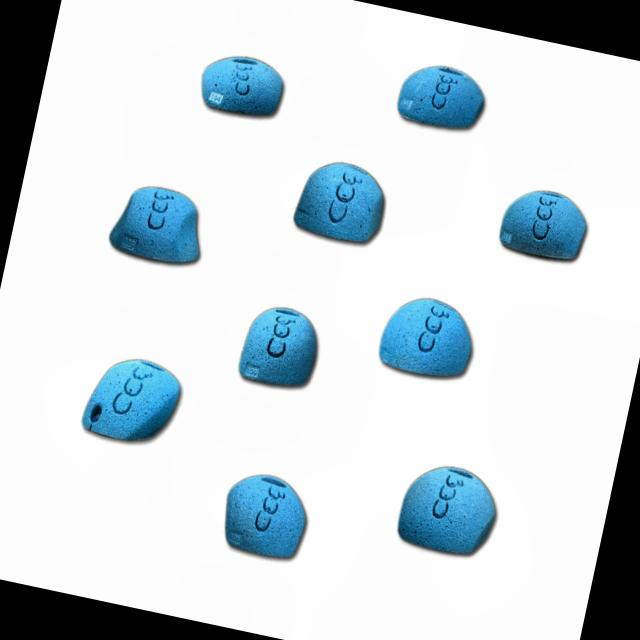Hold: (388, 453, 508, 566), (78, 345, 188, 458), (210, 460, 322, 568), (288, 152, 401, 253), (370, 290, 484, 390), (230, 294, 333, 403), (107, 171, 217, 271), (386, 49, 494, 142), (193, 37, 299, 131), (496, 176, 600, 266)
